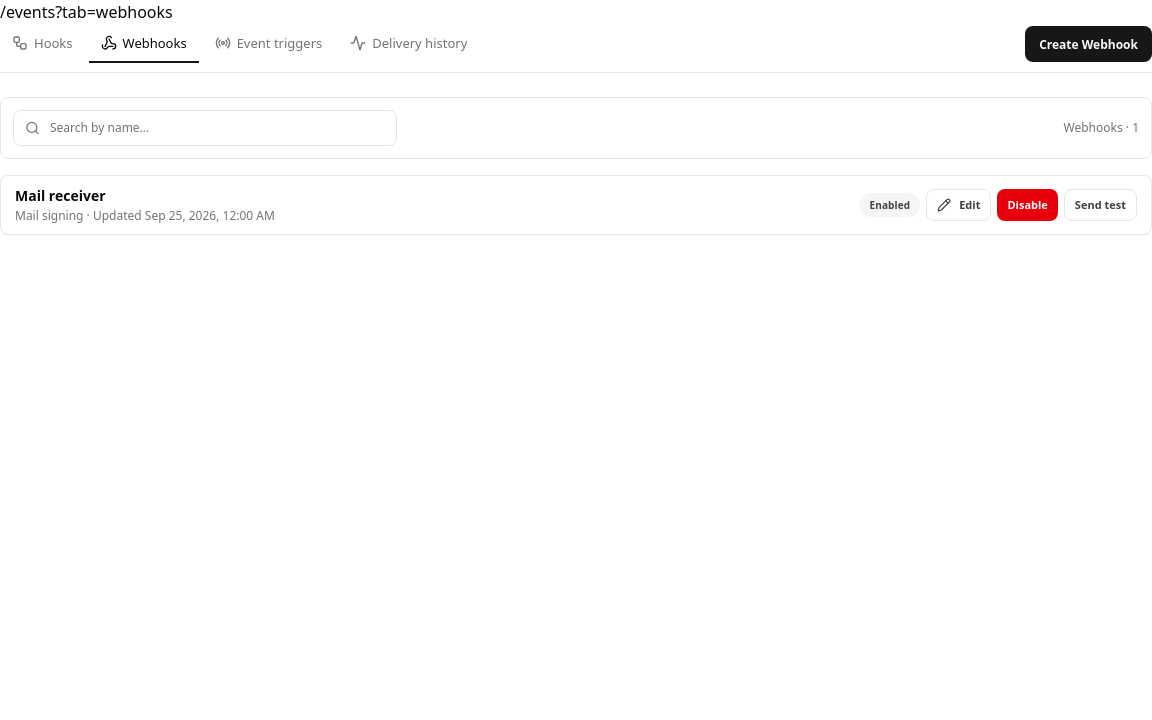
Test case: Hooks & Events and Scheduled jobs Admin surfaces › confirms Webhook disable and explains cancellation before applying it
Click the button "Disable": (1028, 205) [997, 189, 1058, 221]
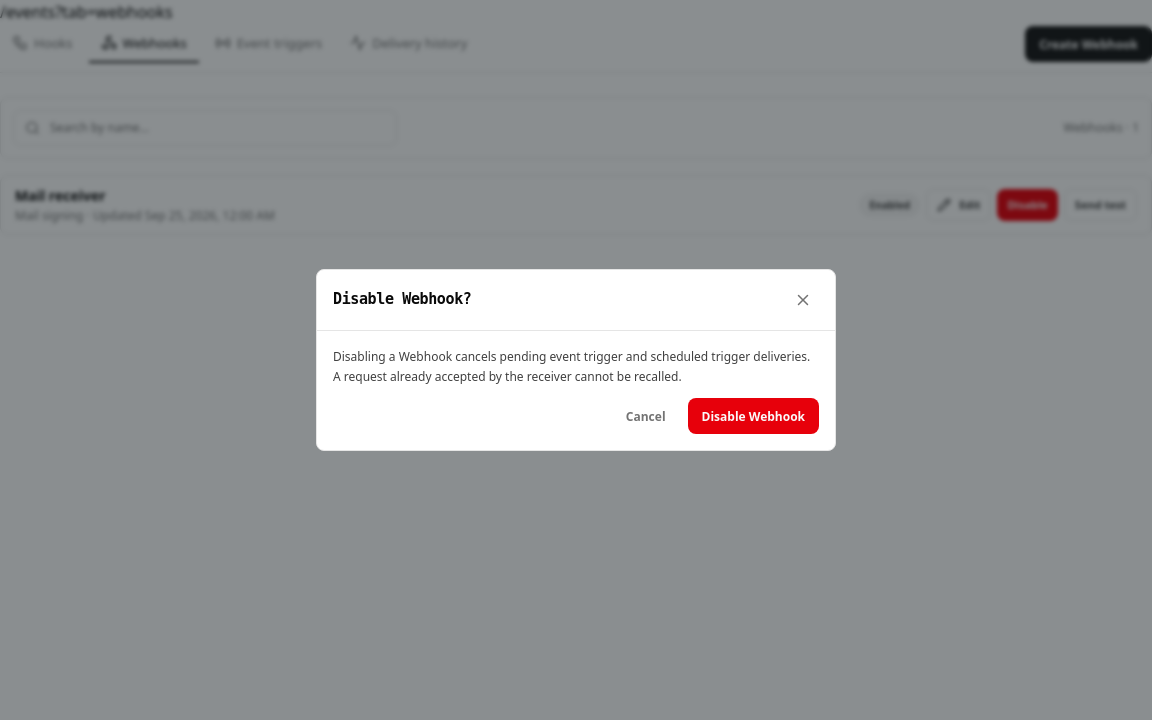
Now the dialog "Disable Webhook?" shows "Disabling a Webhook cancels pending event trigger and scheduled trigger deliveries.", box [333, 348, 810, 384]
Click the button "Disable Webhook": (753, 416) [688, 398, 819, 434]
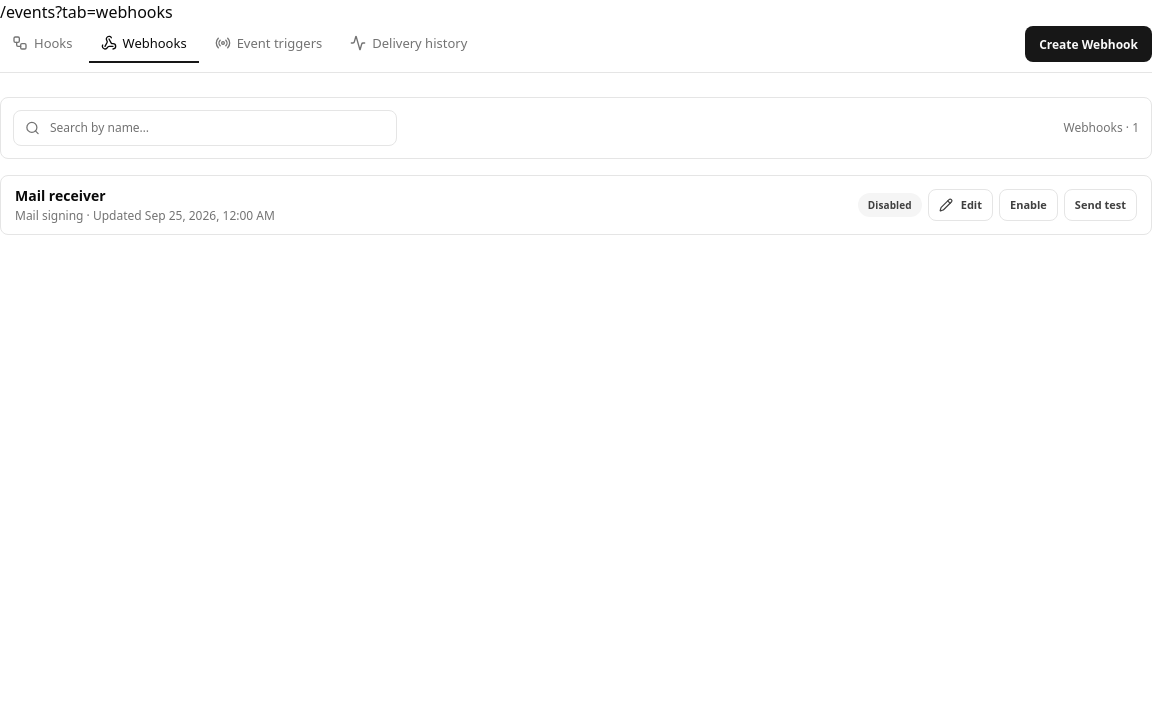
Now the text "Disabled" is shown, box [858, 193, 922, 217]
